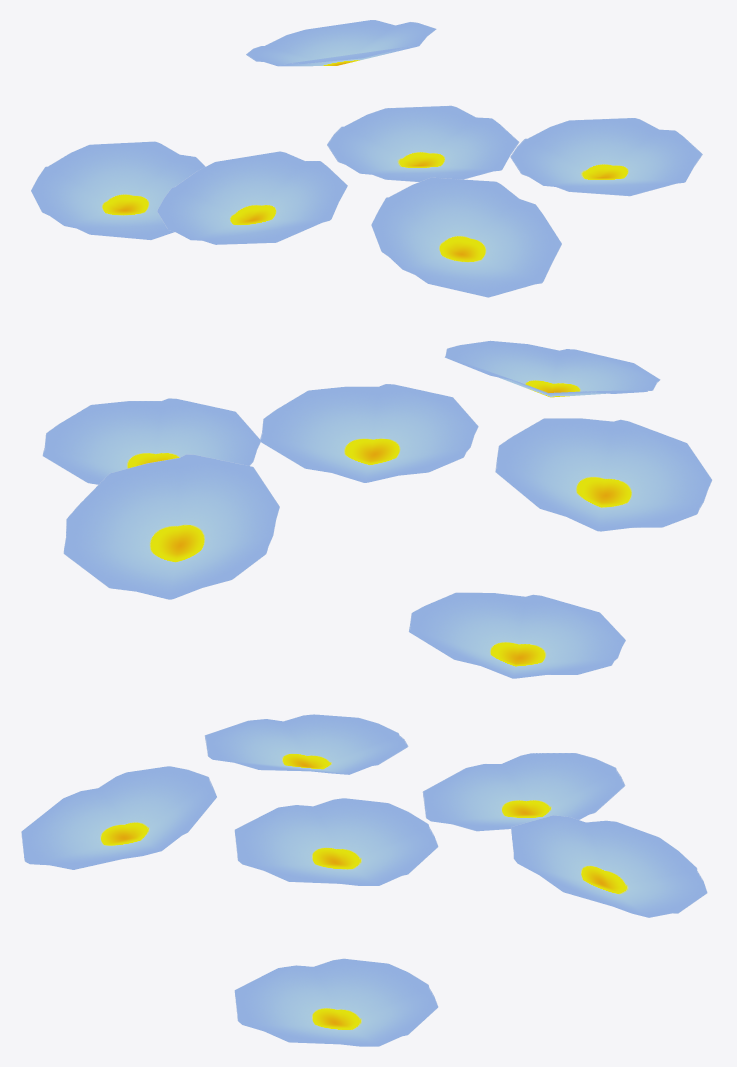
File: Dasies.fbx
3 renders of one model, top to bottom at view 1: azimuth 30°, elevation 25°; view 2: azimuth 150°, elevation 25°; view 3: azimuth 270°, elevation 25°, orthographic. The views are drawn at different scales.
Visible parts, largest first — view 1: Dasies; view 2: Dasies; view 3: Dasies.
Part boxes in pixels (x1,y1,x2,y2): Dasies: (31, 20, 702, 297); Dasies: (42, 340, 712, 678); Dasies: (21, 714, 707, 1046).
Bounding box in the file's own units: 137 × 23.23 × 131.
